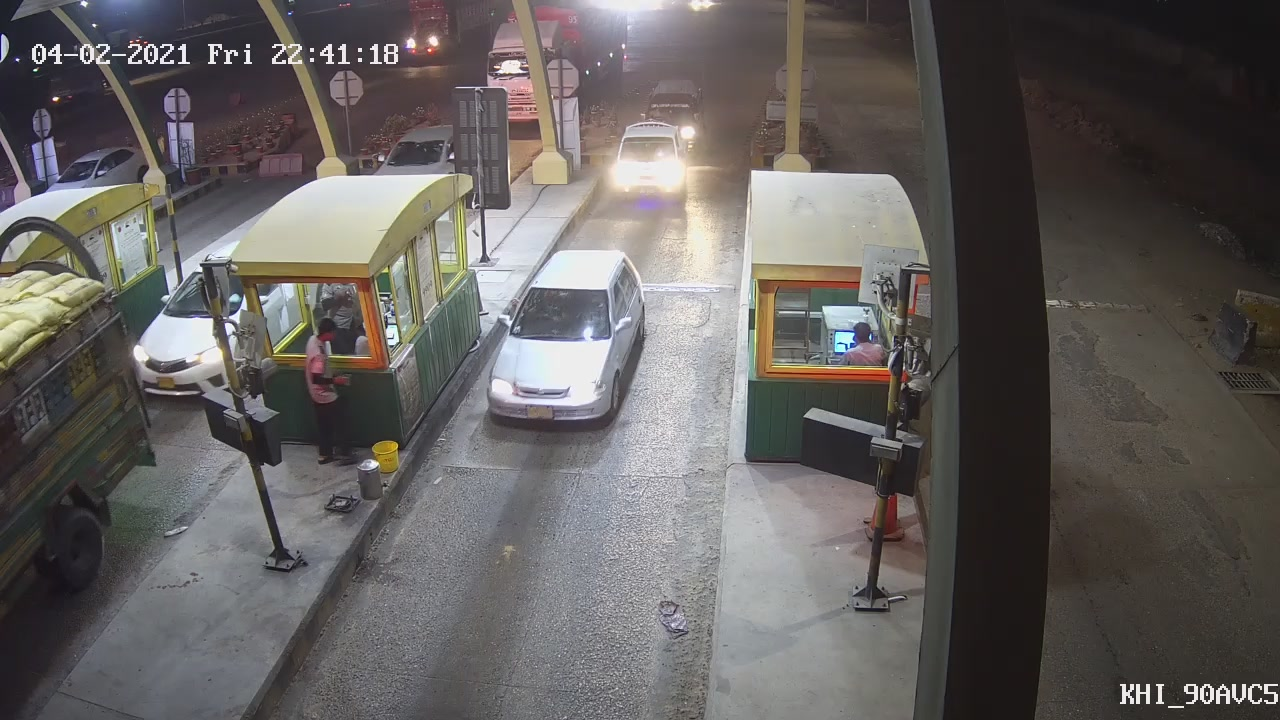F1: (481, 246, 653, 426)
F2: (607, 121, 693, 205)
